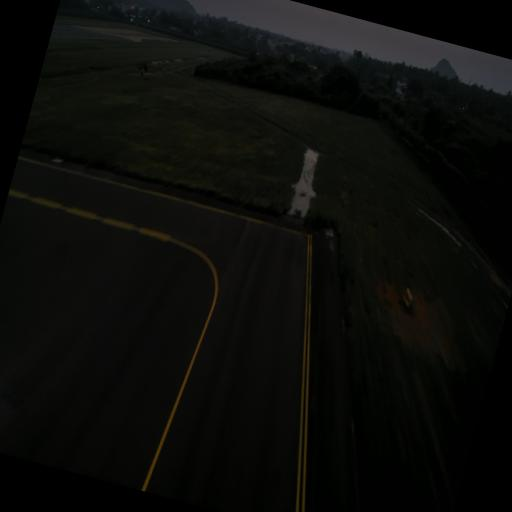on: (326, 226, 333, 234)
